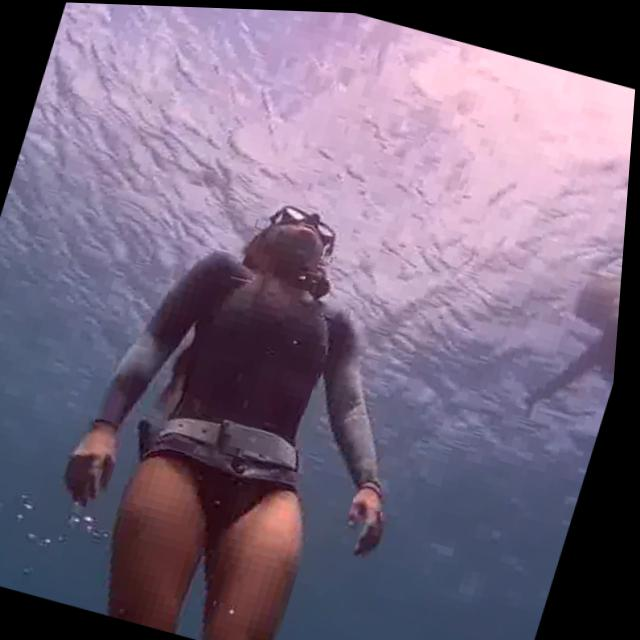human: (23, 128, 512, 640), (443, 147, 632, 640)
